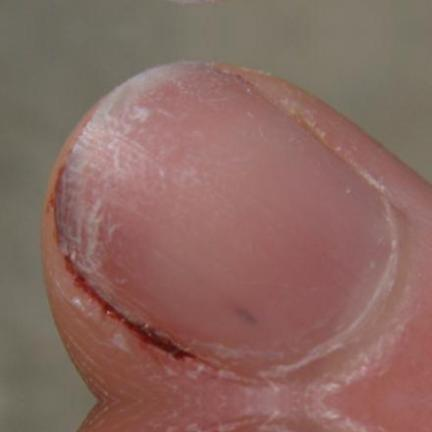Nail: (53, 58, 405, 387), (204, 413, 349, 432), (160, 0, 208, 4)
